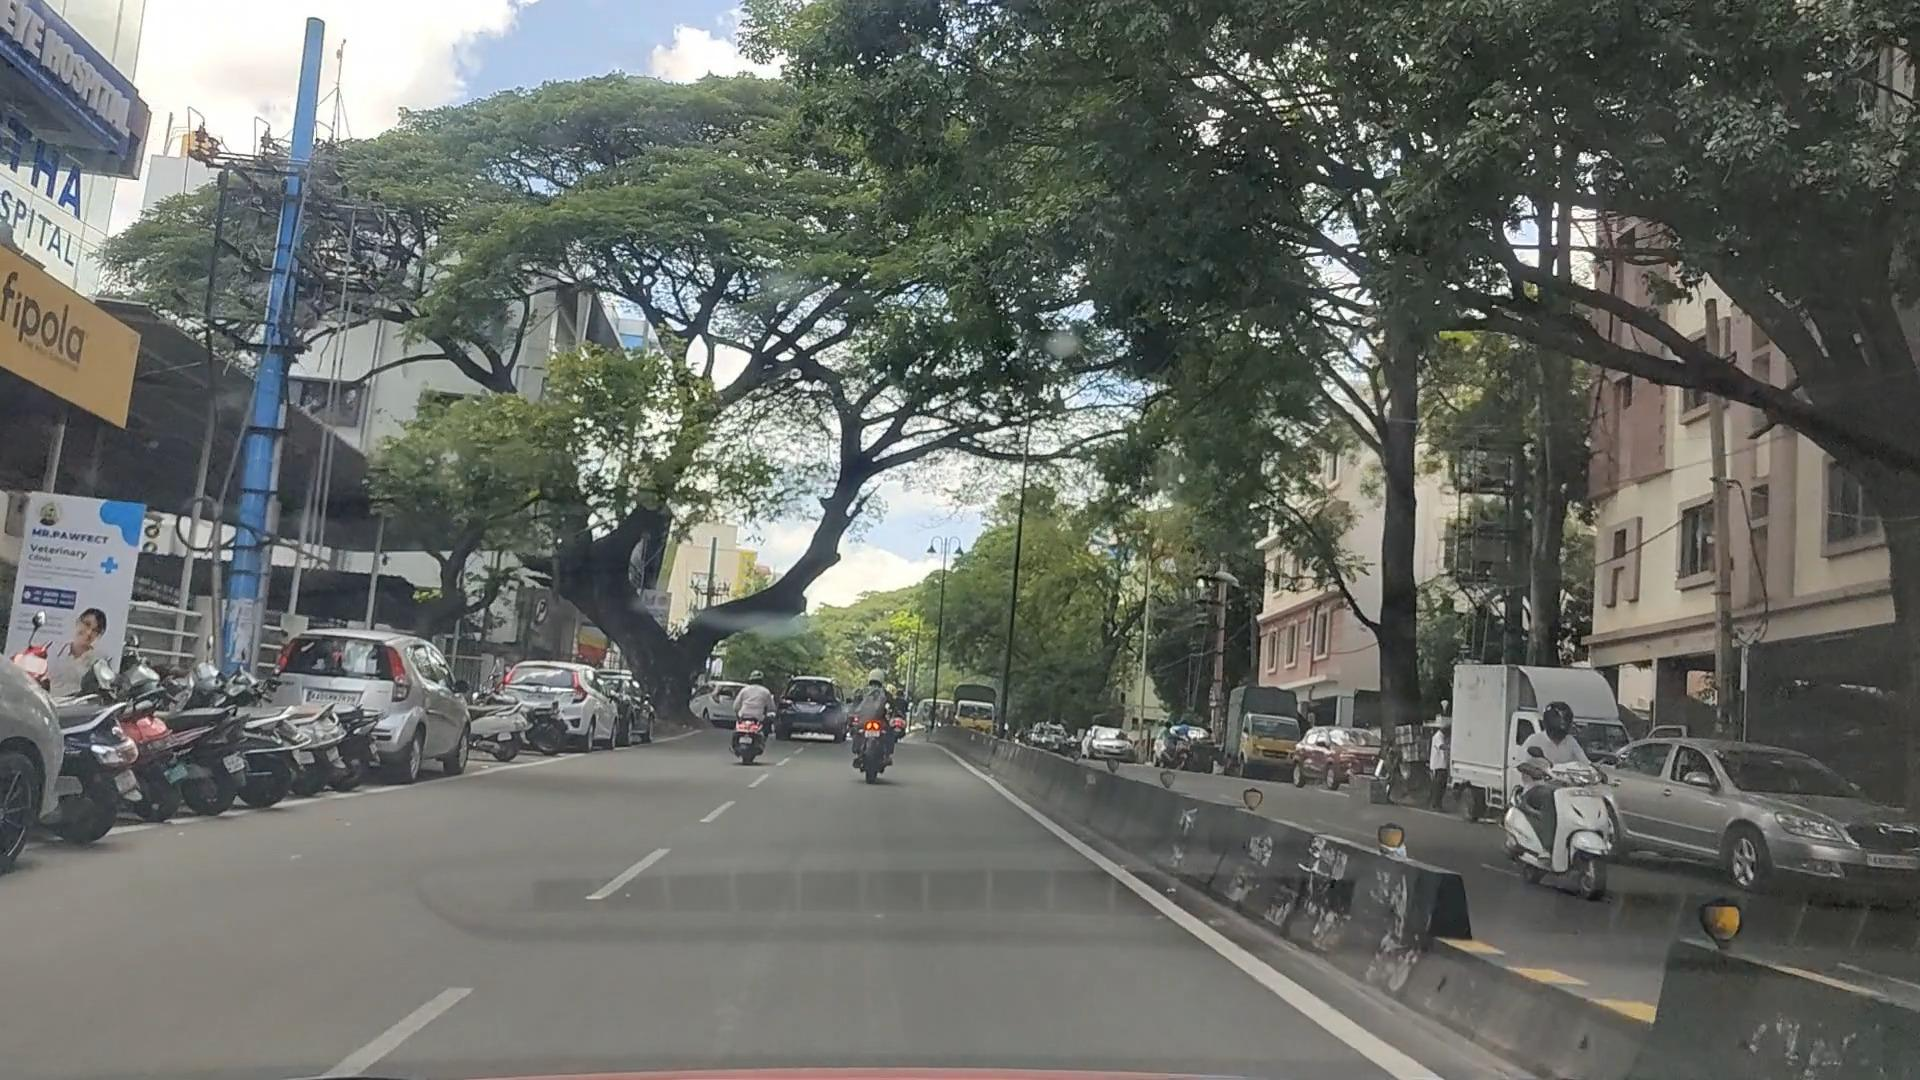LMV: (268, 628, 477, 778), (853, 680, 911, 773), (736, 663, 779, 757)
